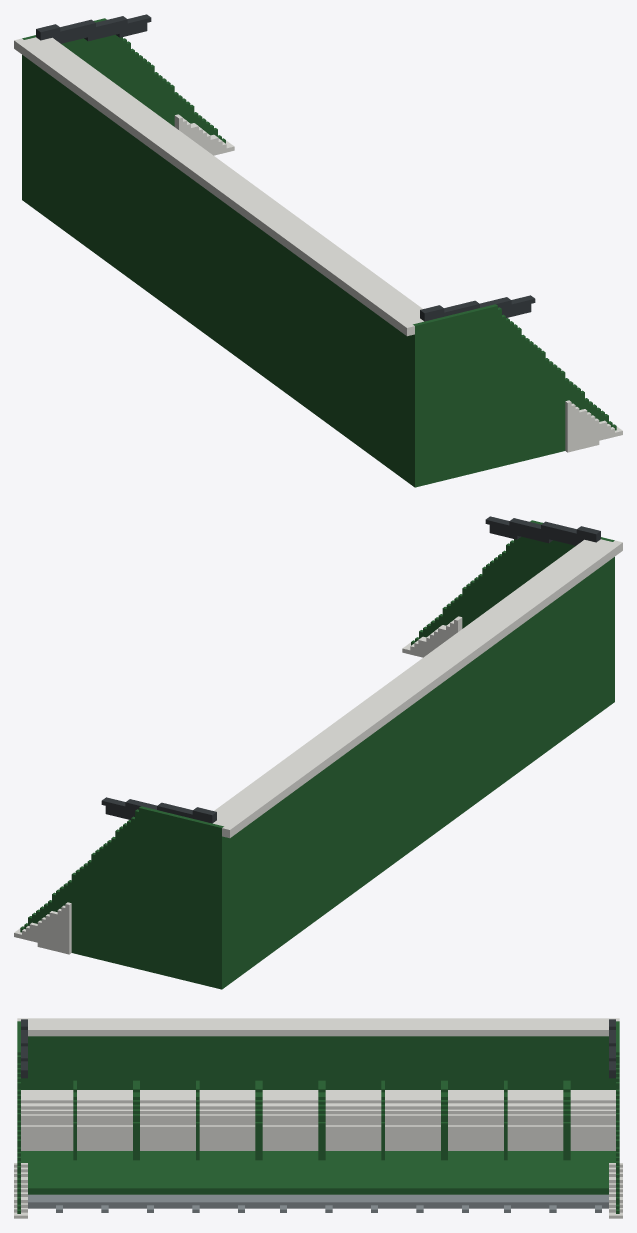
File: combine_harvester_header.glb
3 views of the same model, one above another, from view 1: azimuth 30°, elevation 25°; view 2: azimuth 150°, elevation 25°; view 3: azimuth 270°, elevation 25° (orthographic). The views are drawn at different scales.
Visible parts, largest first — view 1: body:compound; view 2: body:compound; view 3: body:compound.
Boxes of the visible parts, x1,y1,x2,y2 form: body:compound: (14,14,622,487); body:compound: (14,516,622,989); body:compound: (14,1018,622,1218).
Bounding box in the file's own units: 1.69 × 1.28 × 5.44.
